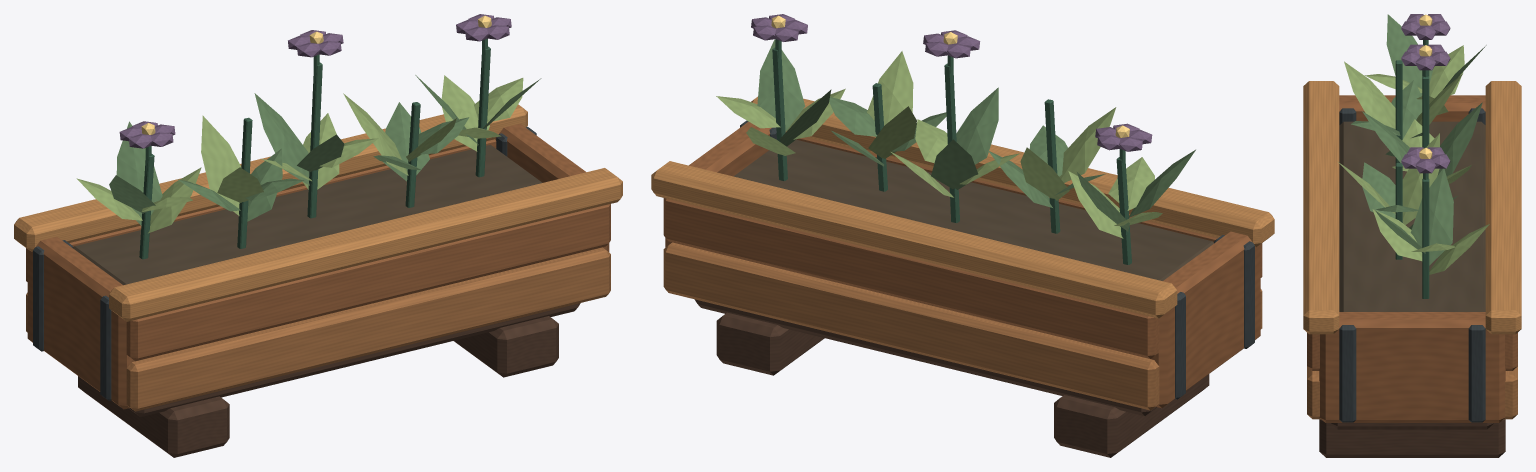
Rendered from planter_herb_trough.glb.
3 views of the same model, side by side, from view 1: azimuth 30°, elevation 25°; view 2: azimuth 150°, elevation 25°; view 3: azimuth 270°, elevation 25° (orthographic). The views are drawn at different scales.
Parts seen in each view (by area): view 1: planter_herb_trough; view 2: planter_herb_trough; view 3: planter_herb_trough.
Part boxes in pixels (<box>): planter_herb_trough: <box>14,14,622,457</box>; planter_herb_trough: <box>651,14,1274,457</box>; planter_herb_trough: <box>1303,14,1521,457</box>.
Size of the model in its own units: 1.46 by 0.9496 by 0.575.
1 material, 1 textured.
